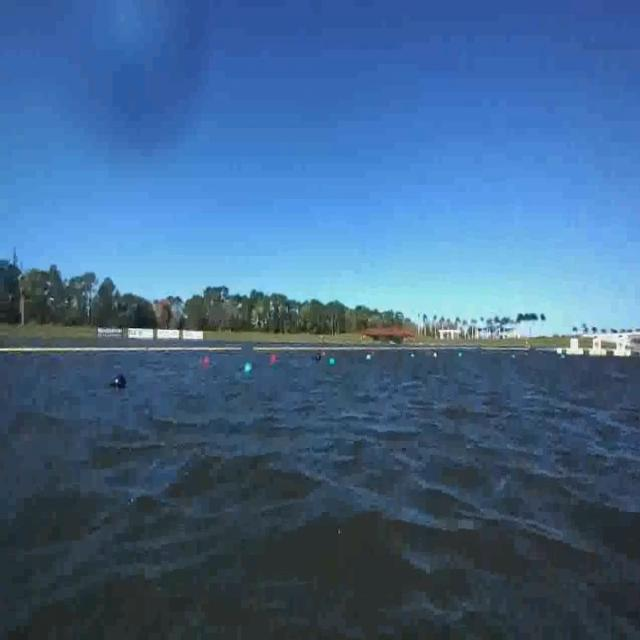black-buoy: (110, 376, 126, 391)
green-buoy: (240, 360, 254, 378)
red-buoy: (202, 353, 213, 370)
